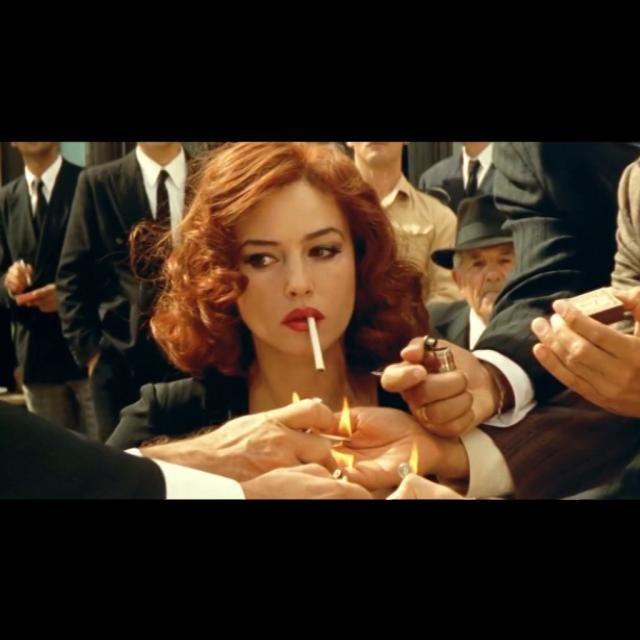rokok: (304, 314, 328, 374)
